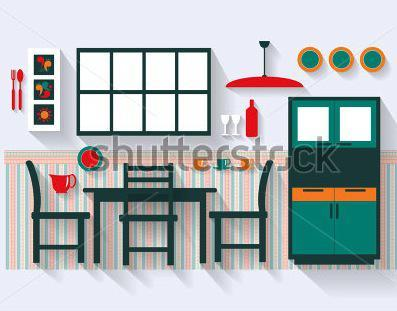bottle: (243, 97, 262, 138)
chair: (24, 156, 92, 262), (207, 157, 275, 262), (116, 160, 180, 266)
diningtable: (80, 183, 218, 266)
